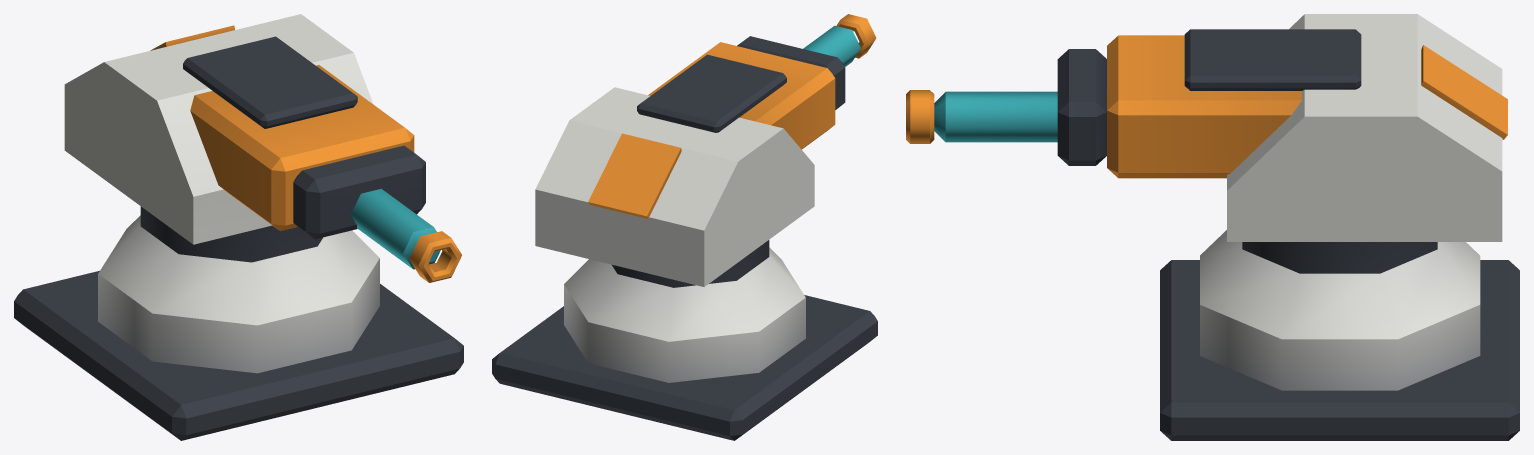
Rendered from R4W_Basic_LOD1.glb.
3 renders of one model, left to right at view 1: azimuth 30°, elevation 25°; view 2: azimuth 150°, elevation 25°; view 3: azimuth 270°, elevation 25°, orthographic. The views are drawn at different scales.
Parts seen in each view (by area): view 1: R4W_Basic_LOD1; view 2: R4W_Basic_LOD1; view 3: R4W_Basic_LOD1.
Part boxes in pixels (<box>): R4W_Basic_LOD1: <box>14,14,463,440</box>; R4W_Basic_LOD1: <box>492,14,877,440</box>; R4W_Basic_LOD1: <box>906,14,1519,440</box>.
Size of the model in its own units: 0.51 by 0.496 by 0.87.
